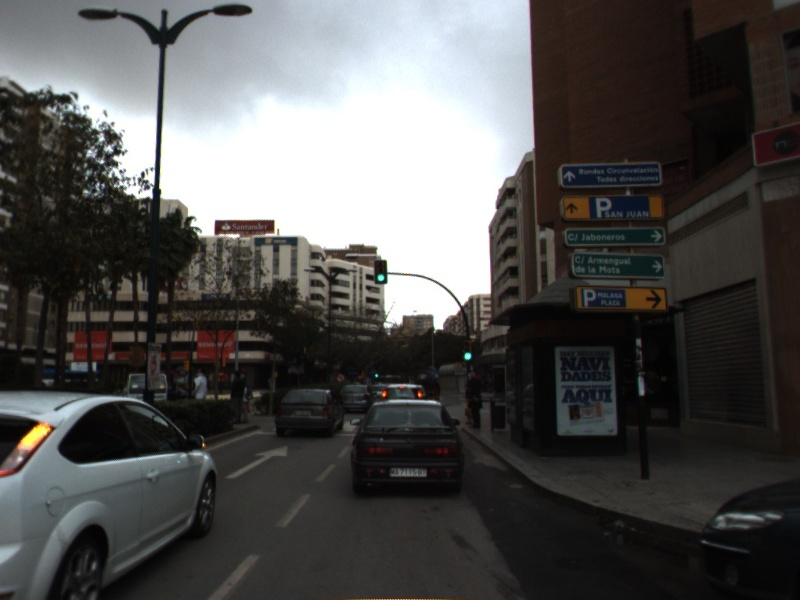STRAIGHT: (222, 443, 289, 481)
